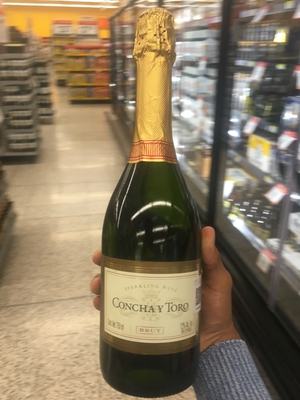brut: (86, 19, 218, 382)
